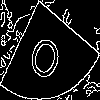O: (25, 25, 68, 85)
